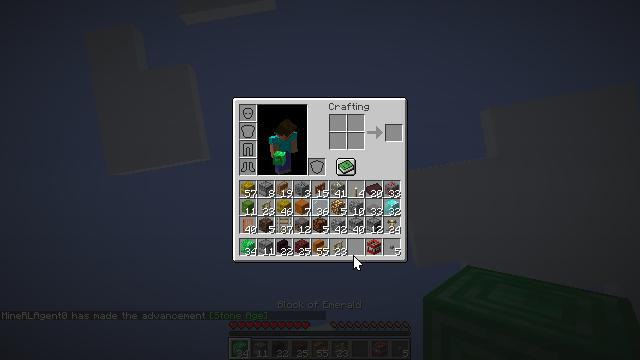cursor: (353, 255, 363, 271)
